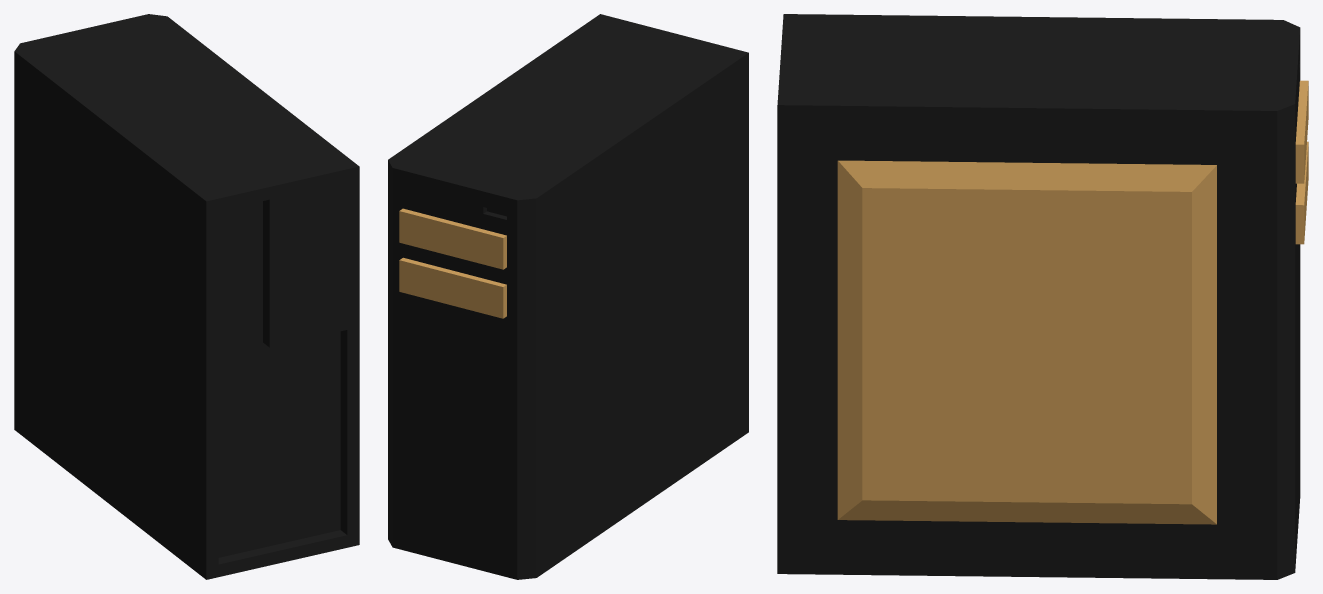
Rendered from PC_Desktop.fbx.
3 views of the same model, side by side, from view 1: azimuth 30°, elevation 25°; view 2: azimuth 150°, elevation 25°; view 3: azimuth 270°, elevation 25° (orthographic). The views are drawn at different scales.
Parts seen in each view (by area): view 1: pc-desktop; view 2: pc-desktop; view 3: pc-desktop.
Boxes of the visible parts, x1,y1,x2,y2 form: pc-desktop: (14, 14, 359, 579); pc-desktop: (388, 14, 748, 579); pc-desktop: (777, 14, 1308, 579).
Bounding box in the file's own units: 0.2734 × 0.6 × 0.6157.
